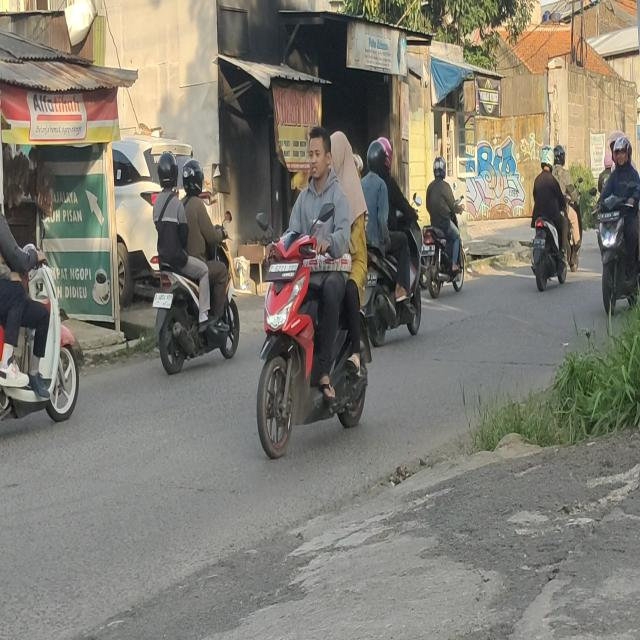helmet: (183, 158, 203, 195), (158, 153, 178, 186), (367, 140, 386, 172), (379, 137, 393, 172), (616, 138, 632, 166), (609, 131, 626, 155), (432, 155, 446, 179), (541, 146, 553, 170), (554, 144, 566, 166), (604, 154, 612, 168)
no-helmet: (307, 127, 331, 178), (331, 131, 352, 168)
